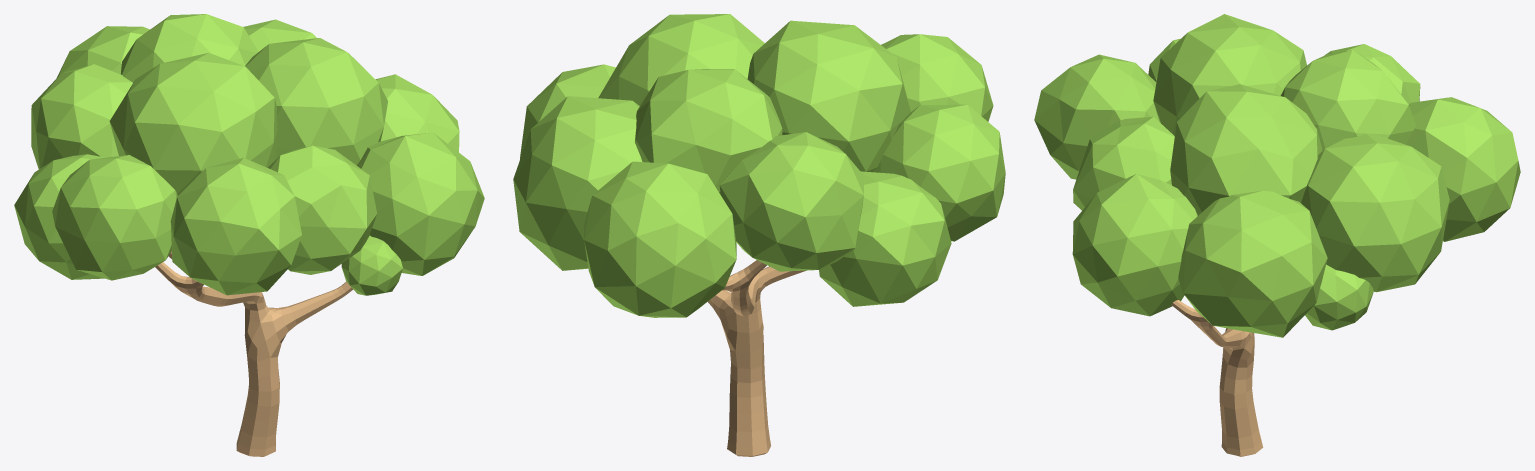
Rendered from Tree6.fbx.
3 renders of one model, left to right at view 1: azimuth 30°, elevation 25°; view 2: azimuth 150°, elevation 25°; view 3: azimuth 270°, elevation 25°, orthographic. The views are drawn at different scales.
Parts seen in each view (by area): view 1: Icosphere; view 2: Icosphere; view 3: Icosphere.
Boxes of the visible parts, <box> form: Icosphere: <box>14,14,484,456</box>; Icosphere: <box>513,14,1005,456</box>; Icosphere: <box>1034,14,1520,456</box>.
Bounding box in the file's own units: 1117 × 1043 × 1169.
